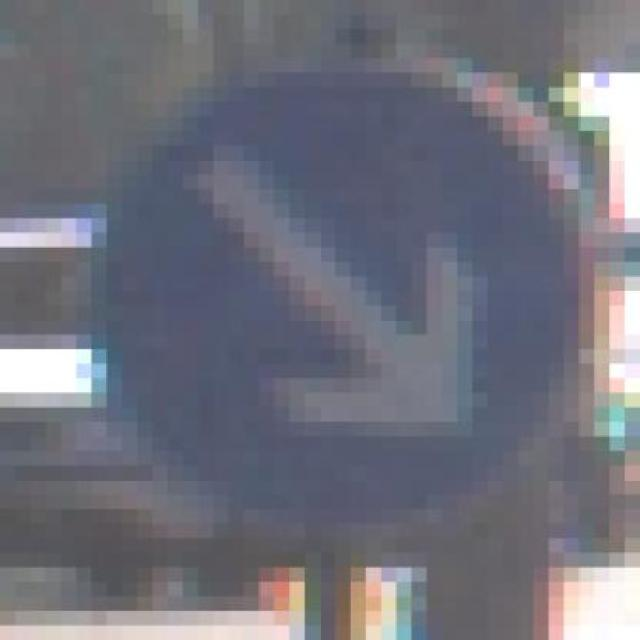Keep-Right: (76, 44, 610, 582)
